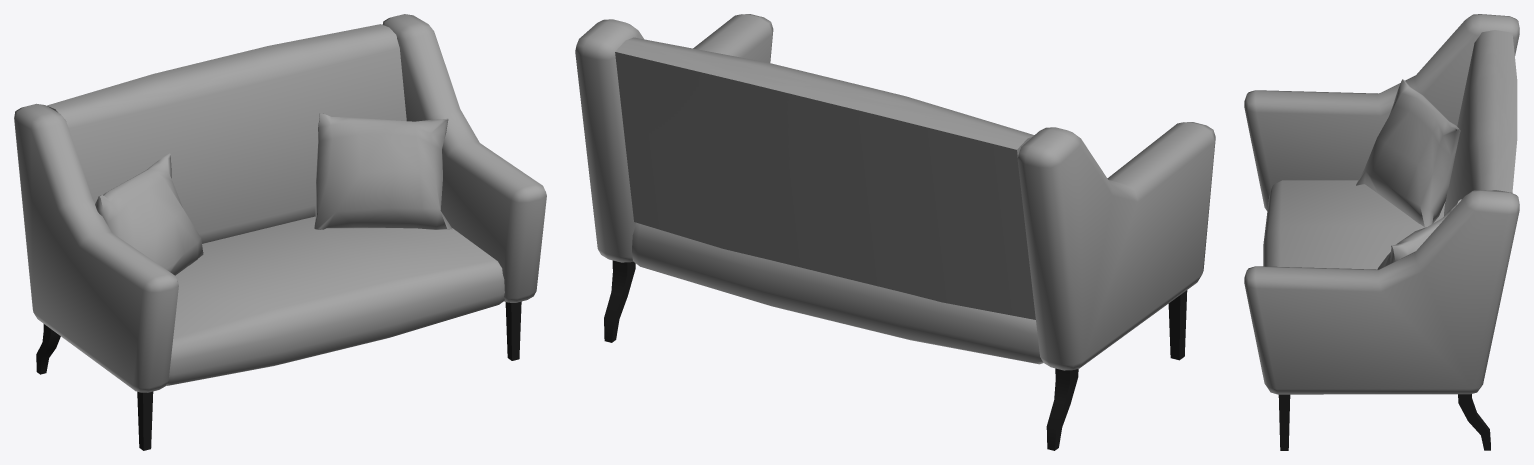
File: sofa_003.glb
3 views of the same model, side by side, from view 1: azimuth 30°, elevation 25°; view 2: azimuth 150°, elevation 25°; view 3: azimuth 270°, elevation 25° (orthographic). The views are drawn at different scales.
Visible parts, largest first — view 1: sofa_003; view 2: sofa_003; view 3: sofa_003.
Boxes of the visible parts, <box> form: sofa_003: <box>14,14,546,450</box>; sofa_003: <box>575,14,1215,450</box>; sofa_003: <box>1244,14,1519,450</box>.
Size of the model in its own units: 1.46 by 0.9062 by 0.8805.
1 material, 1 textured.
